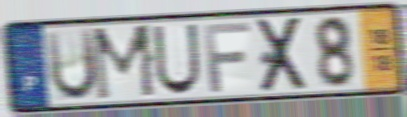8: (314, 14, 356, 90)
F: (202, 20, 254, 95)
M: (89, 21, 159, 104)
U: (43, 25, 101, 104), (151, 22, 202, 97)
X: (254, 14, 311, 96)
